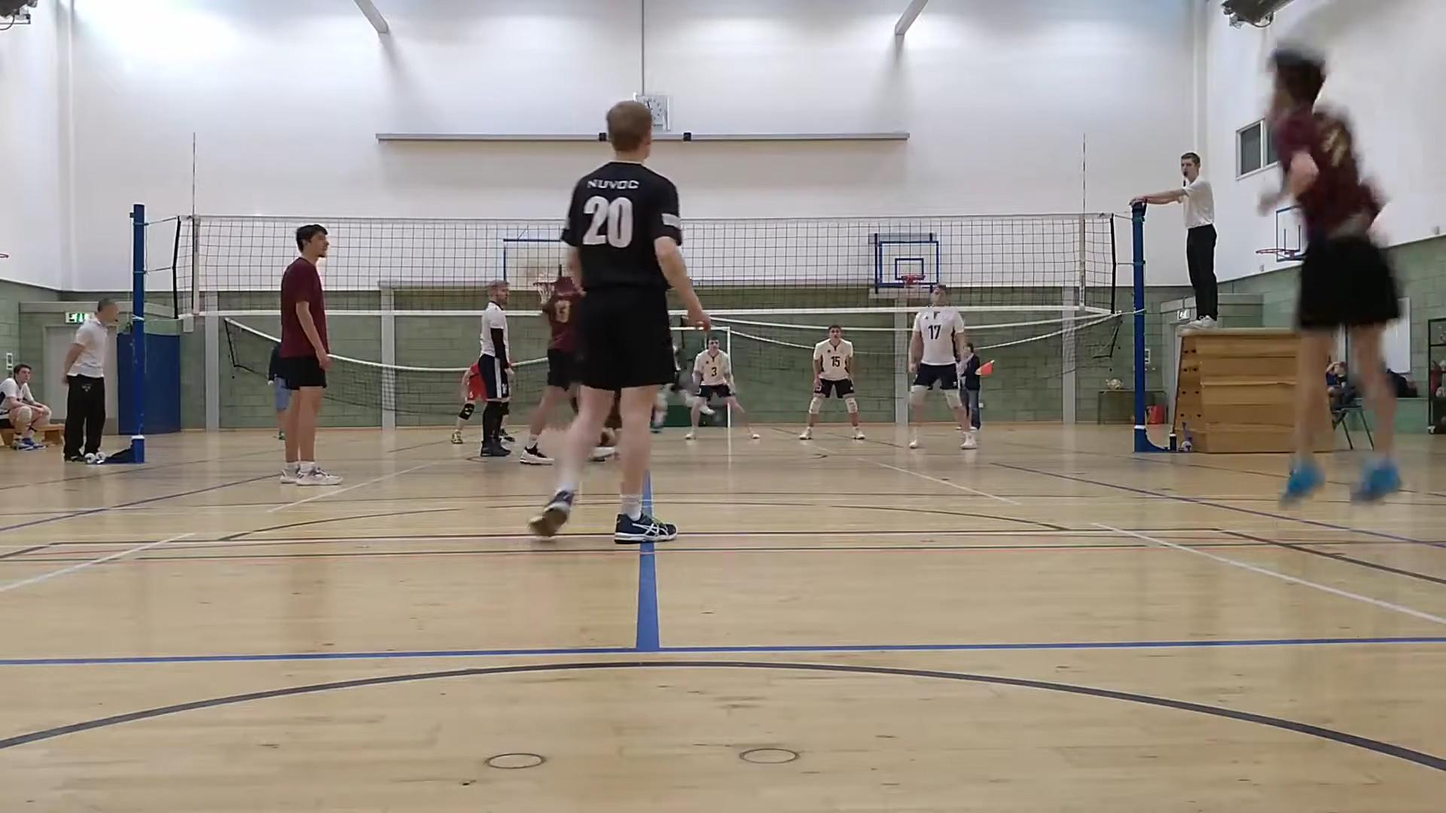battuta: (1237, 38, 1423, 517)
